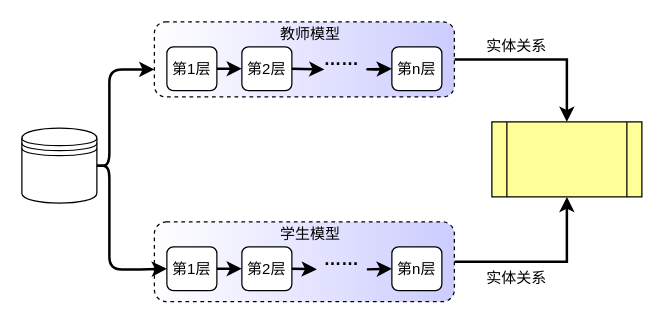
Image size: 664x324. Some labels were removed from this diagram. Each missing label, with the box of its shape:
数据源: (21, 127, 97, 203)
蒸馏损失: (491, 121, 642, 197)
